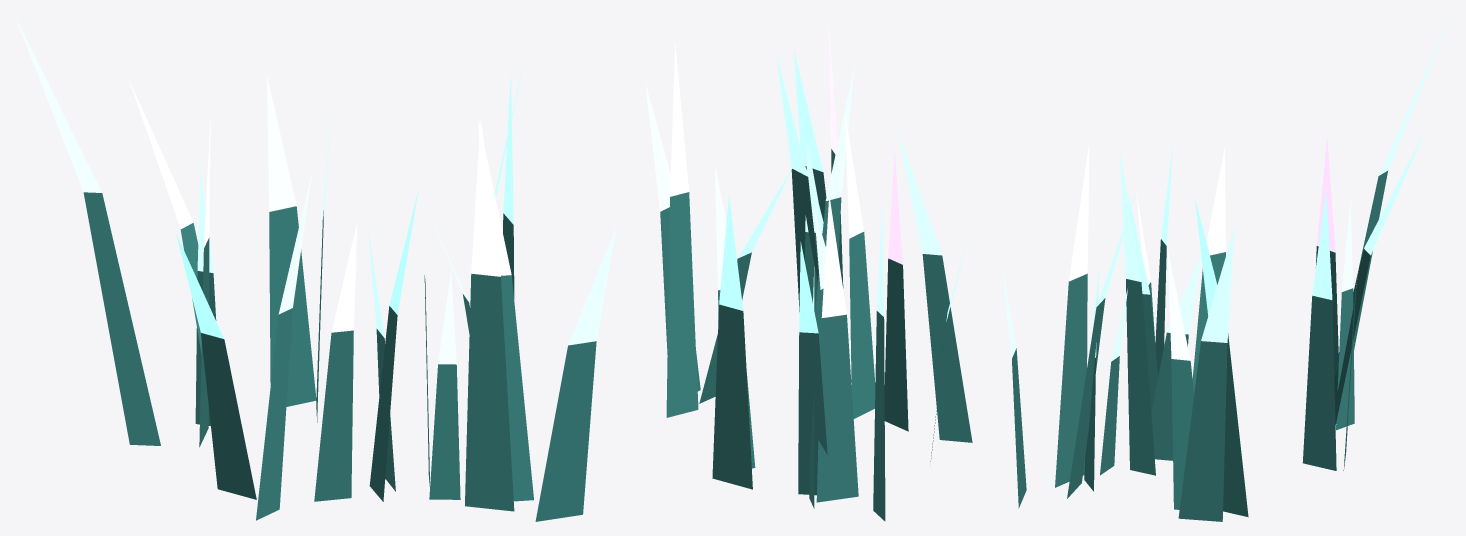
File: grass_tuft_b.glb
3 views of the same model, side by side, from view 1: azimuth 30°, elevation 25°; view 2: azimuth 150°, elevation 25°; view 3: azimuth 270°, elevation 25° (orthographic). The views are drawn at different scales.
Parts seen in each view (by area): view 1: grass_tuft_b; view 2: grass_tuft_b; view 3: grass_tuft_b.
Part boxes in pixels (x1,y1,x2,y2): grass_tuft_b: (15, 17, 616, 521); grass_tuft_b: (645, 18, 972, 521); grass_tuft_b: (1001, 18, 1449, 521).
Size of the model in its own units: 0.3289 by 0.3366 by 0.387.
